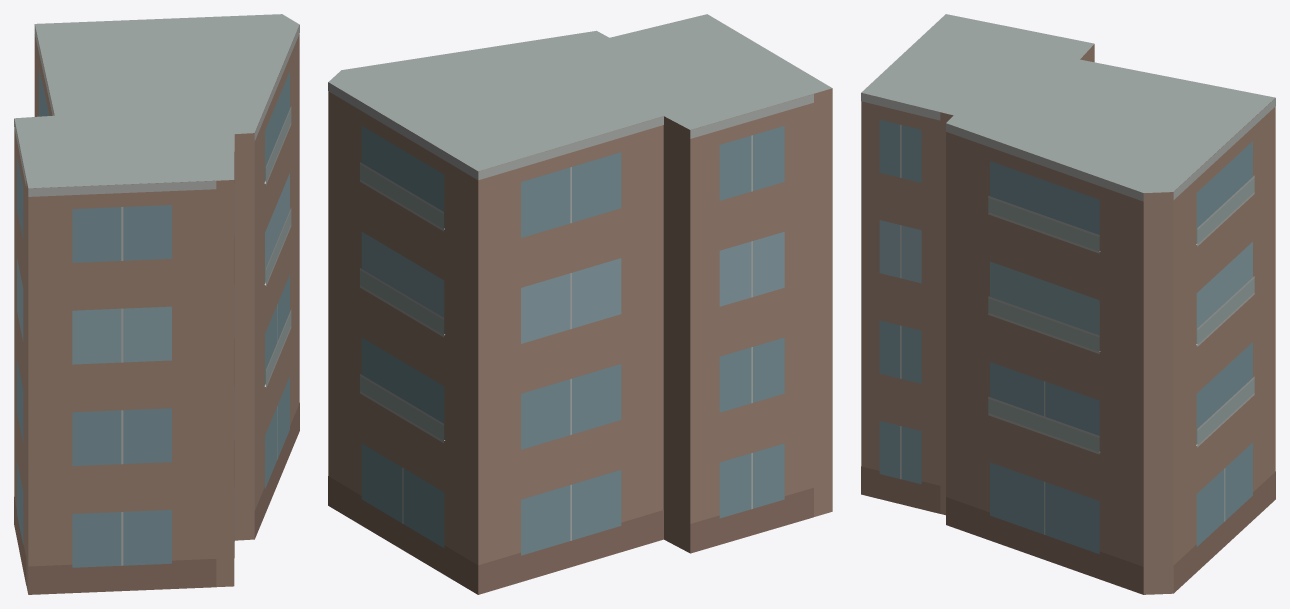
File: survey-upis-32779998.glb
3 renders of one model, left to right at view 1: azimuth 30°, elevation 25°; view 2: azimuth 150°, elevation 25°; view 3: azimuth 270°, elevation 25°, orthographic. The views are drawn at different scales.
Parts seen in each view (by area): view 1: survey-upis-32779998.tmp; view 2: survey-upis-32779998.tmp; view 3: survey-upis-32779998.tmp.
Part boxes in pixels (x1=…): survey-upis-32779998.tmp: x1=14, y1=14, x2=299, y2=594; survey-upis-32779998.tmp: x1=328, y1=14, x2=832, y2=594; survey-upis-32779998.tmp: x1=861, y1=14, x2=1275, y2=594.
Bounding box in the file's own units: 11 × 11.5 × 10.76.
